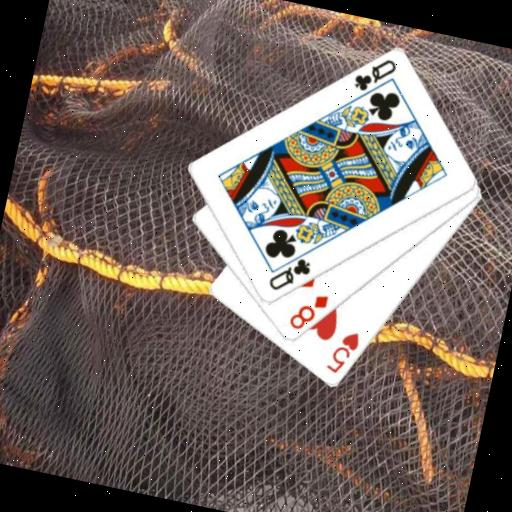5H: (321, 324, 363, 379)
8D: (284, 285, 331, 337)
QC: (348, 49, 399, 99), (264, 249, 314, 299)
